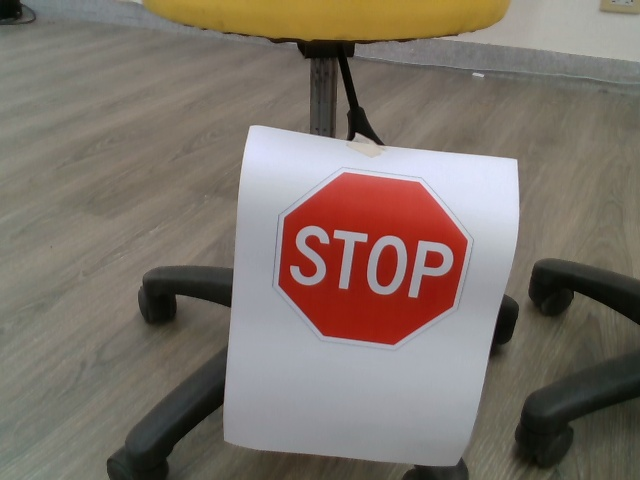stop: (273, 167, 474, 349)
